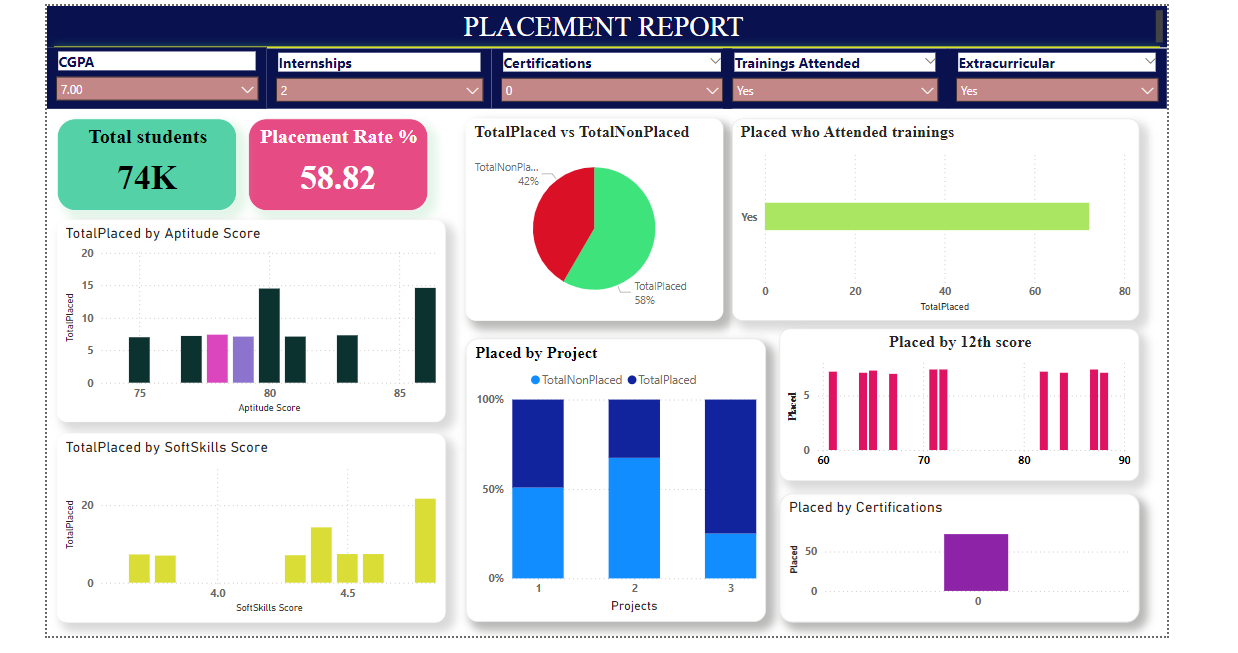

This screenshot's page, from the dashboard's own definition file:
{"tool":"powerbi","page":{"name":"Page 1","canvas":[1280,720],"ordinal":0},"visuals":[{"type":"textbox","box":[0,0,1280,47.1],"z":0},{"type":"shape","box":[0,28.6,1280,37.1],"z":1000},{"type":"slicer","fields":{"Values":["placementdata.CGPA (bins)"]},"box":[0,47.1,251.4,70],"z":2000},{"type":"slicer","fields":{"Values":["placementdata.Internships"]},"box":[251.4,48.6,257.1,68.6],"z":3000},{"type":"slicer","fields":{"Values":["placementdata.Certifications"]},"box":[508.6,48.6,274.3,68.6],"z":4000},{"type":"slicer","fields":{"Values":["placementdata.Trainings Attended"]},"box":[772.9,48.6,255.7,68.6],"z":5000},{"type":"slicer","fields":{"Values":["placementdata.Extracurricular "]},"box":[1028.6,48.6,251.4,68.6],"z":6000},{"type":"card","title":"Placement Rate %","fields":{"Values":["placementdata.Placement Rate"]},"box":[230,128.6,205.7,105.7],"z":7000},{"type":"card","title":"Total students","fields":{"Values":["Sum(placementdata.StudentID)"]},"box":[11.4,128.6,205.7,105.7],"z":8000},{"type":"pieChart","title":"TotalPlaced vs TotalNonPlaced","fields":{"Y":["placementdata.TotalPlaced","placementdata.TotalNonPlaced"]},"box":[478.6,128.6,294.3,231.4],"z":9000},{"type":"columnChart","fields":{"Category":["placementdata.Aptitude Score"],"Y":["placementdata.TotalPlaced"]},"box":[11.4,244.3,444.3,231.4],"z":9001},{"type":"columnChart","fields":{"Y":["placementdata.TotalPlaced"],"Category":["placementdata.SoftSkills Score"]},"box":[11.4,488.6,444.3,215.7],"z":9002},{"type":"barChart","title":"Placed who Attended trainings","fields":{"Category":["placementdata.Trainings Attended"],"Y":["placementdata.TotalPlaced"]},"box":[782.9,128.6,465.7,231.4],"z":9003},{"type":"hundredPercentStackedColumnChart","title":"Placed by Project","fields":{"Y":["placementdata.TotalNonPlaced","placementdata.TotalPlaced"],"Category":["placementdata.Projects"]},"box":[478.6,380,342.9,324.3],"z":9004},{"type":"columnChart","title":"Placed by 12th score","fields":{"Category":["placementdata.12th score"],"Y":["placementdata.TotalPlaced"]},"box":[837.1,368.6,411.4,174.3],"z":9005},{"type":"columnChart","title":"Placed by Certifications","fields":{"Category":["placementdata.Certifications"],"Y":["placementdata.TotalPlaced"]},"box":[837.1,557.1,411.4,147.1],"z":9006}]}

Visuals, with their boxes on the page's 1280x720 design canvas (x1, y1, x2, y2). These are canvas units, not pixel positions in the 1238x653 screenshot, which may show the page scaled, cropped or inside an application window:
textbox: select_region(0, 0, 1280, 47)
shape: select_region(0, 29, 1280, 66)
slicer - placementdata.CGPA (bins): select_region(0, 47, 251, 117)
slicer - placementdata.Internships: select_region(251, 49, 508, 117)
slicer - placementdata.Certifications: select_region(509, 49, 783, 117)
slicer - placementdata.Trainings Attended: select_region(773, 49, 1029, 117)
slicer - placementdata.Extracurricular : select_region(1029, 49, 1280, 117)
"Placement Rate %" card: select_region(230, 129, 436, 234)
"Total students" card: select_region(11, 129, 217, 234)
"TotalPlaced vs TotalNonPlaced" pieChart: select_region(479, 129, 773, 360)
columnChart - placementdata.Aptitude Score x placementdata.TotalPlaced: select_region(11, 244, 456, 476)
columnChart - placementdata.TotalPlaced x placementdata.SoftSkills Score: select_region(11, 489, 456, 704)
"Placed who Attended trainings" barChart: select_region(783, 129, 1249, 360)
"Placed by Project" hundredPercentStackedColumnChart: select_region(479, 380, 822, 704)
"Placed by 12th score" columnChart: select_region(837, 369, 1248, 543)
"Placed by Certifications" columnChart: select_region(837, 557, 1248, 704)
